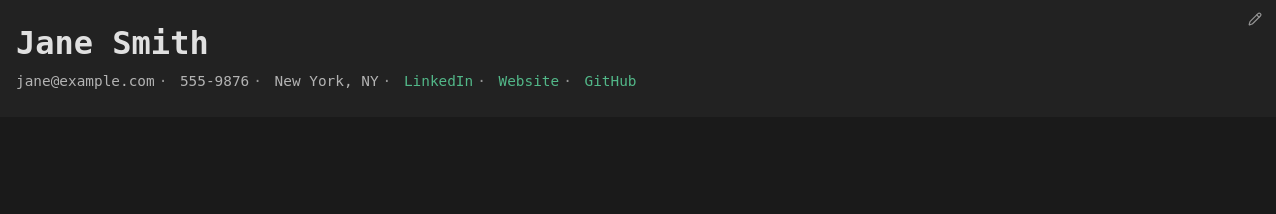
Test: ContactSection (edit mode) › pre-fills form fields with current values
Click the button named "edit" at (1255, 19), box [1242, 8, 1268, 30]
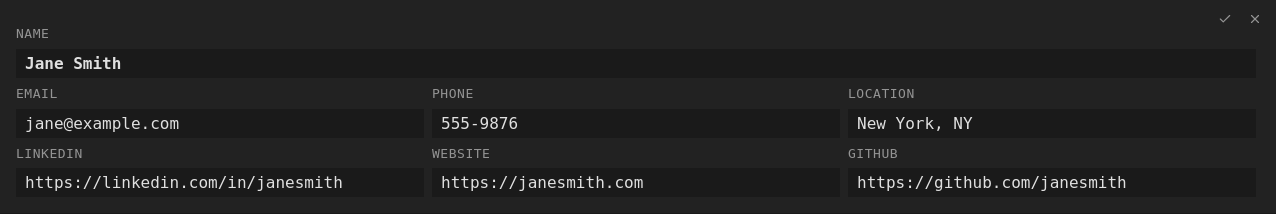
expect the field labelled "Name" holds "Jane Smith": met, box [16, 49, 1256, 78]
expect the field labelled "Email" holds "jane@example.com": met, box [16, 109, 424, 138]
expect the field labelled "Phone" holds "555-9876": met, box [432, 109, 840, 138]
